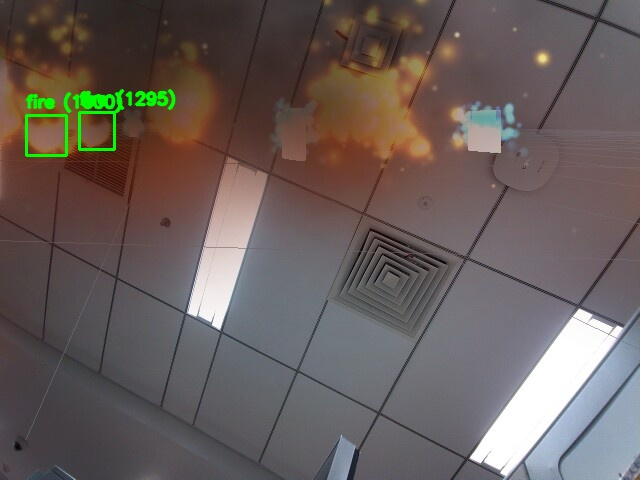fire: (26, 115, 66, 155), (79, 112, 114, 149)
